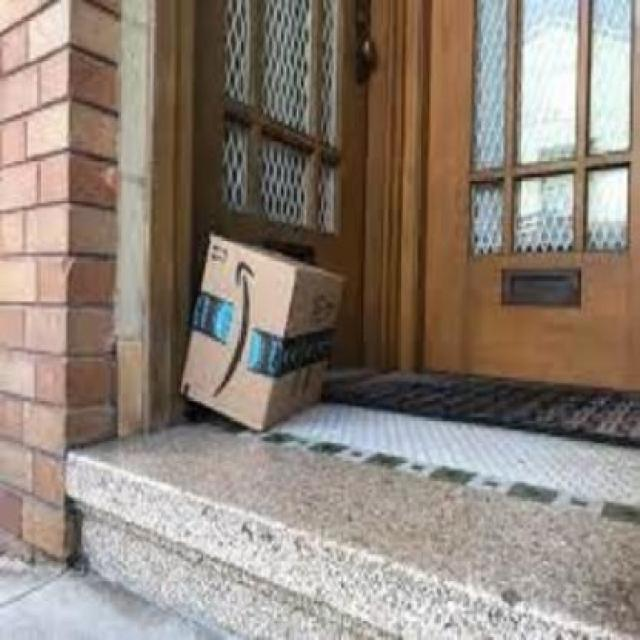cardboxes: (170, 224, 350, 456)
